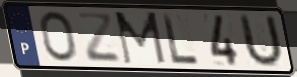4: (208, 13, 241, 68)
L: (160, 12, 202, 67)
M: (112, 10, 168, 66)
O: (38, 10, 79, 64)
U: (238, 12, 285, 70)
Z: (75, 11, 123, 65)
